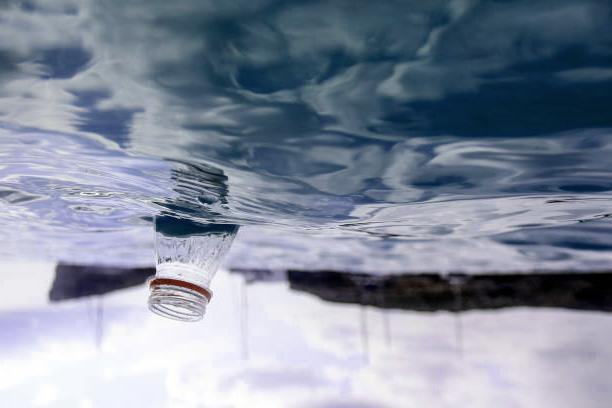Plastic: (145, 181, 239, 328)
